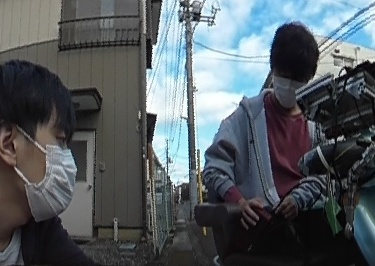person: (213, 22, 331, 257)
